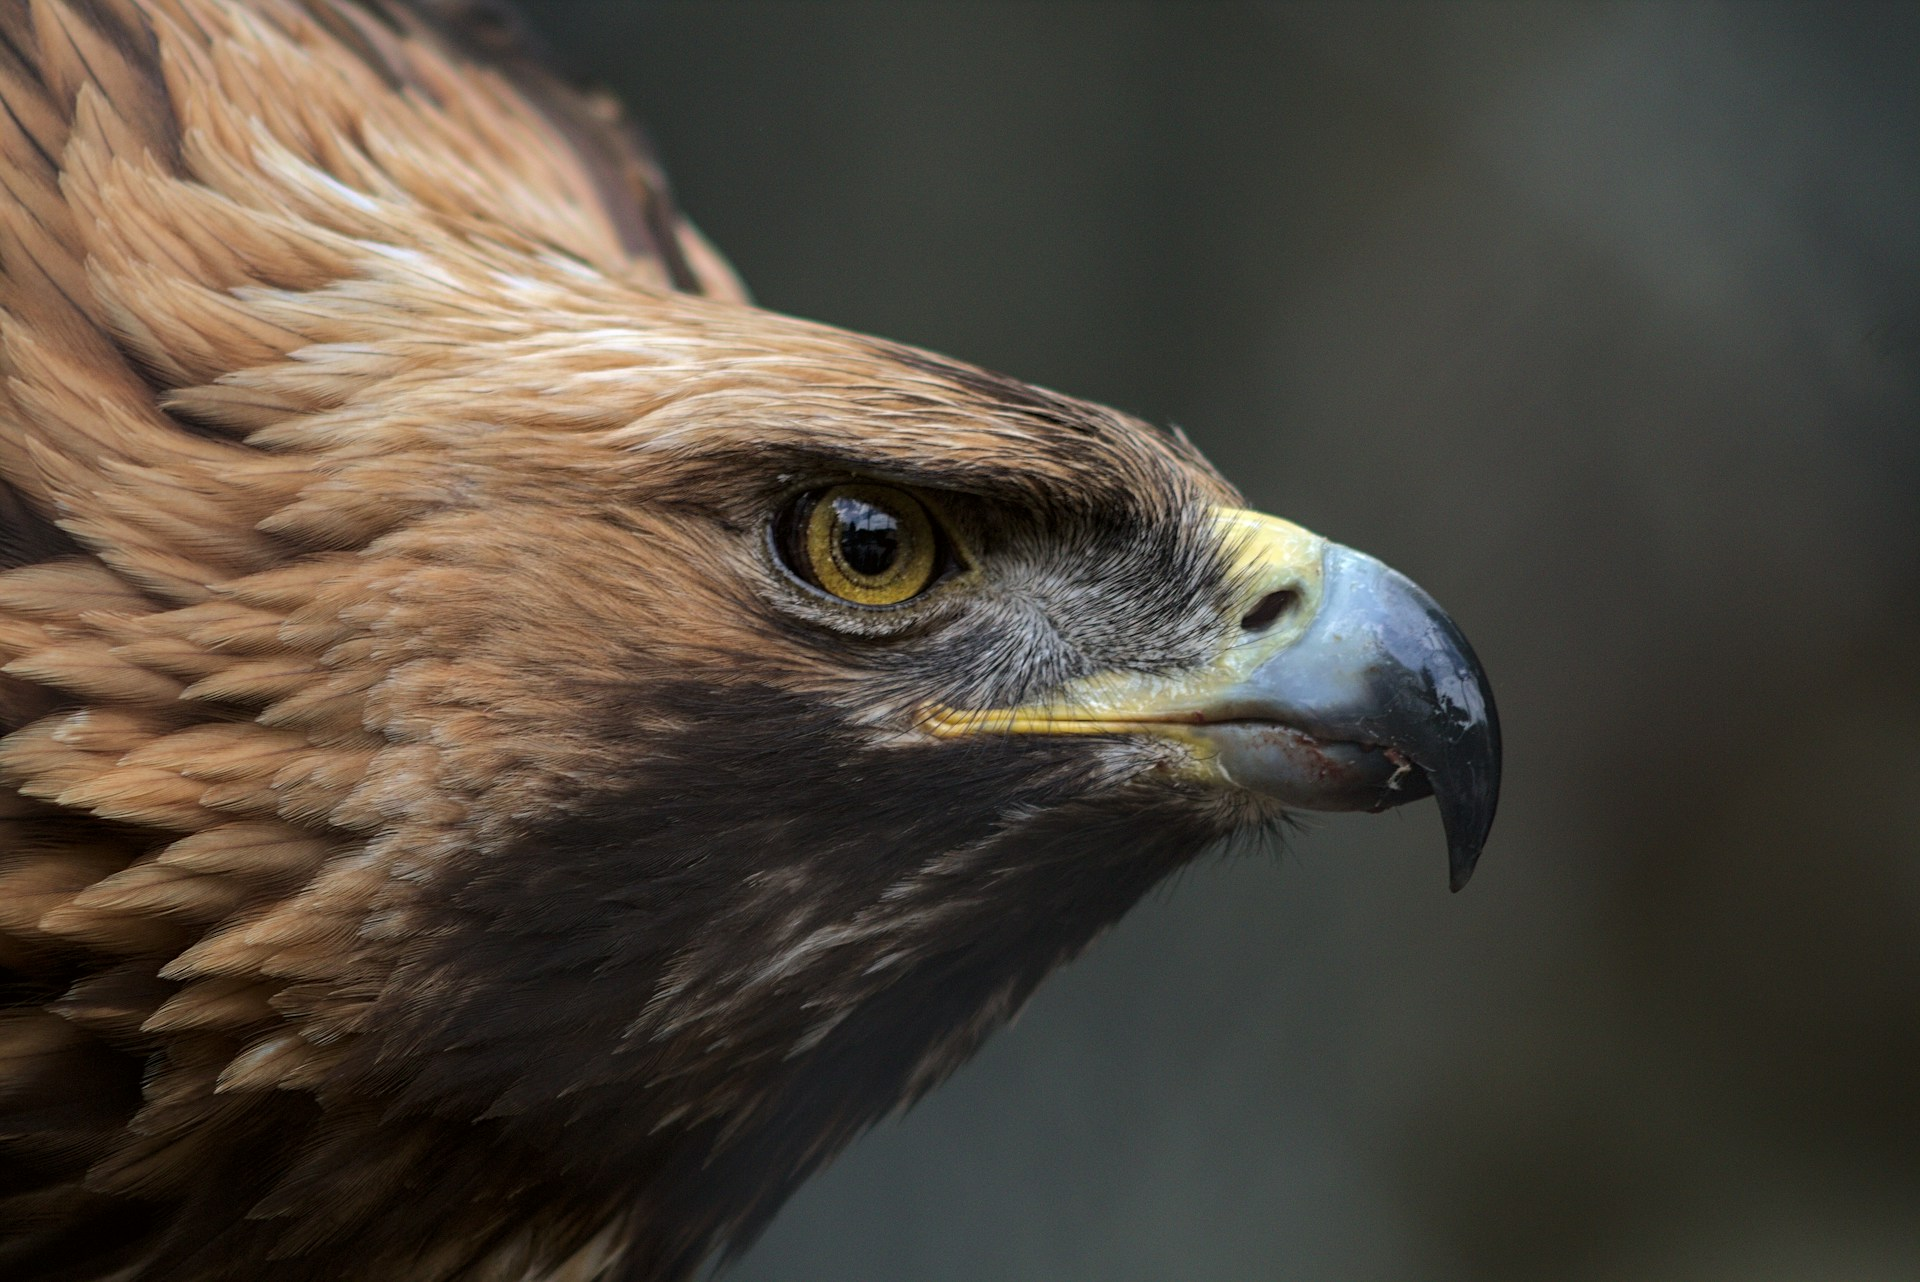eagle: (1, 4, 1511, 1282)
